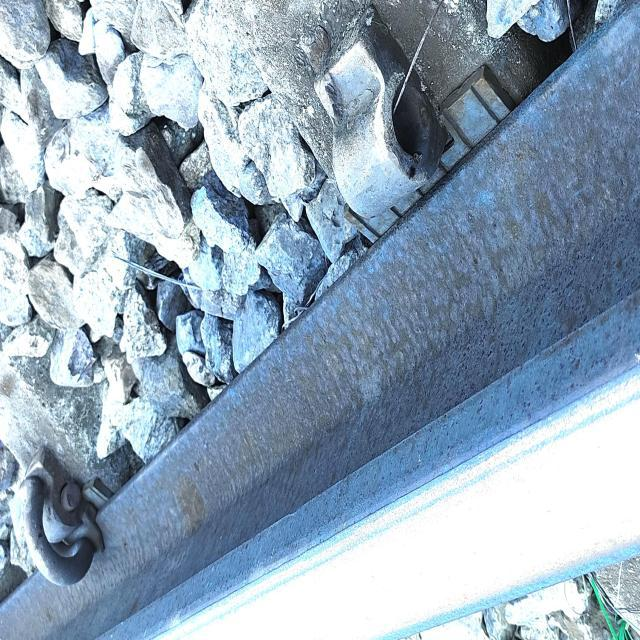Good Fasteners: (10, 444, 113, 586)
Missing Fastener: (292, 37, 471, 269)
